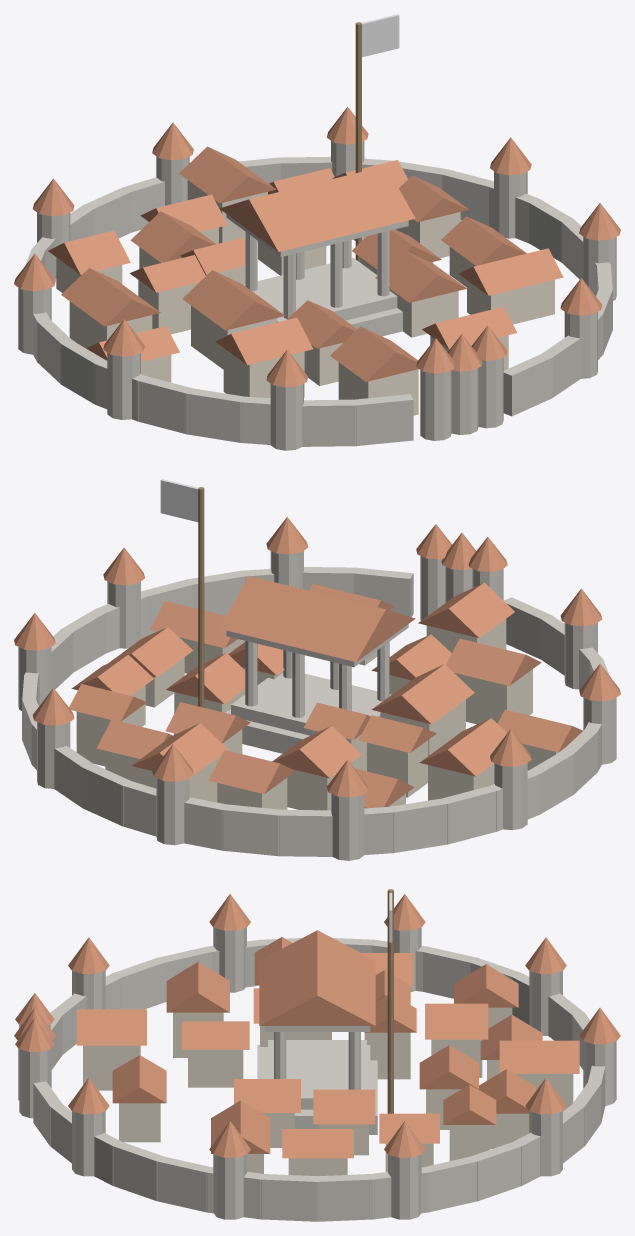
File: civ_city_ancient_metro.glb
3 renders of one model, top to bottom at view 1: azimuth 30°, elevation 25°; view 2: azimuth 150°, elevation 25°; view 3: azimuth 270°, elevation 25°, orthographic. The views are drawn at different scales.
Parts seen in each view (by area): view 1: civ_city_ancient_metro; view 2: civ_city_ancient_metro; view 3: civ_city_ancient_metro.
Boxes of the visible parts, x1,y1,x2,y2 form: civ_city_ancient_metro: [14, 14, 620, 450]; civ_city_ancient_metro: [14, 479, 620, 860]; civ_city_ancient_metro: [14, 889, 620, 1221].
Size of the model in its own units: 5.53 by 2.6 by 5.8.
